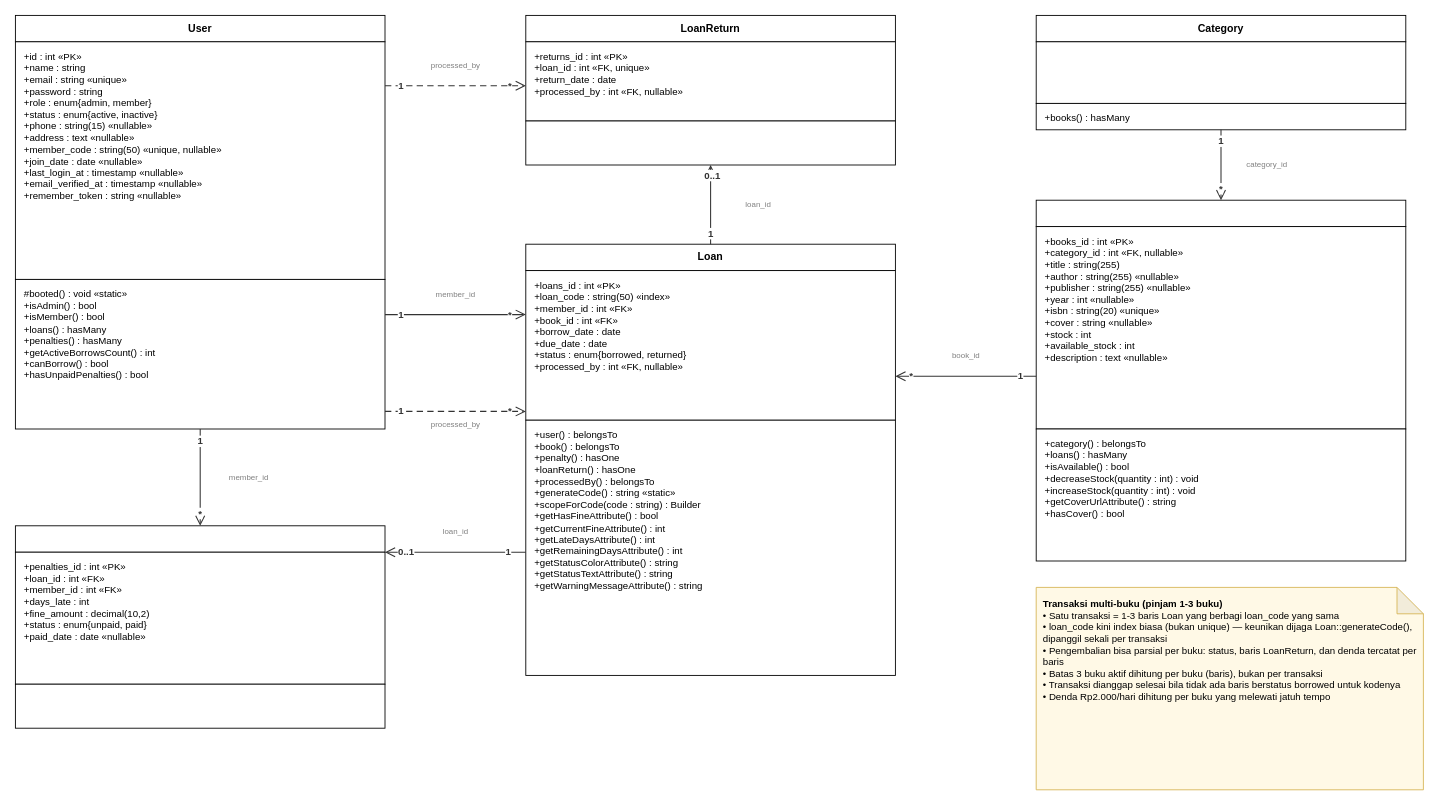
Image size: 1439x805. Some labels were removed from this diagram. Each missing label, with the box of its shape:
+categories_id : int «PK» +name : string(100) +description : text «nullable»: (1035, 41, 1406, 103)
+loan() : belongsTo +admin() : belongsTo: (525, 120, 895, 165)
+loan() : belongsTo +user() : belongsTo: (15, 683, 385, 728)
Book: (1035, 199, 1406, 227)
Penalty: (15, 525, 385, 552)
